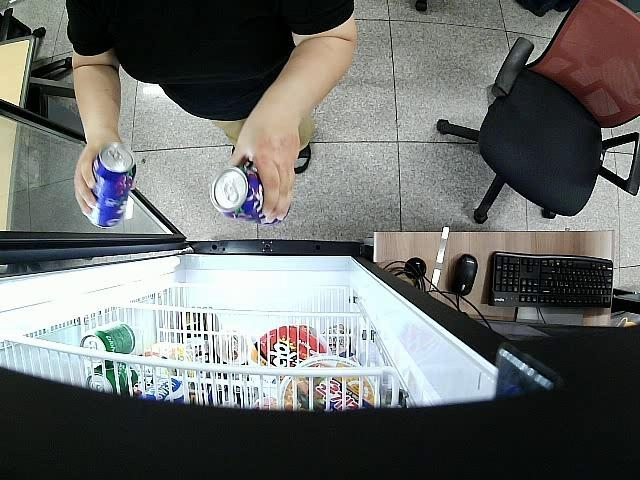14_welchsGrape: (208, 164, 292, 225), (88, 145, 135, 230)
